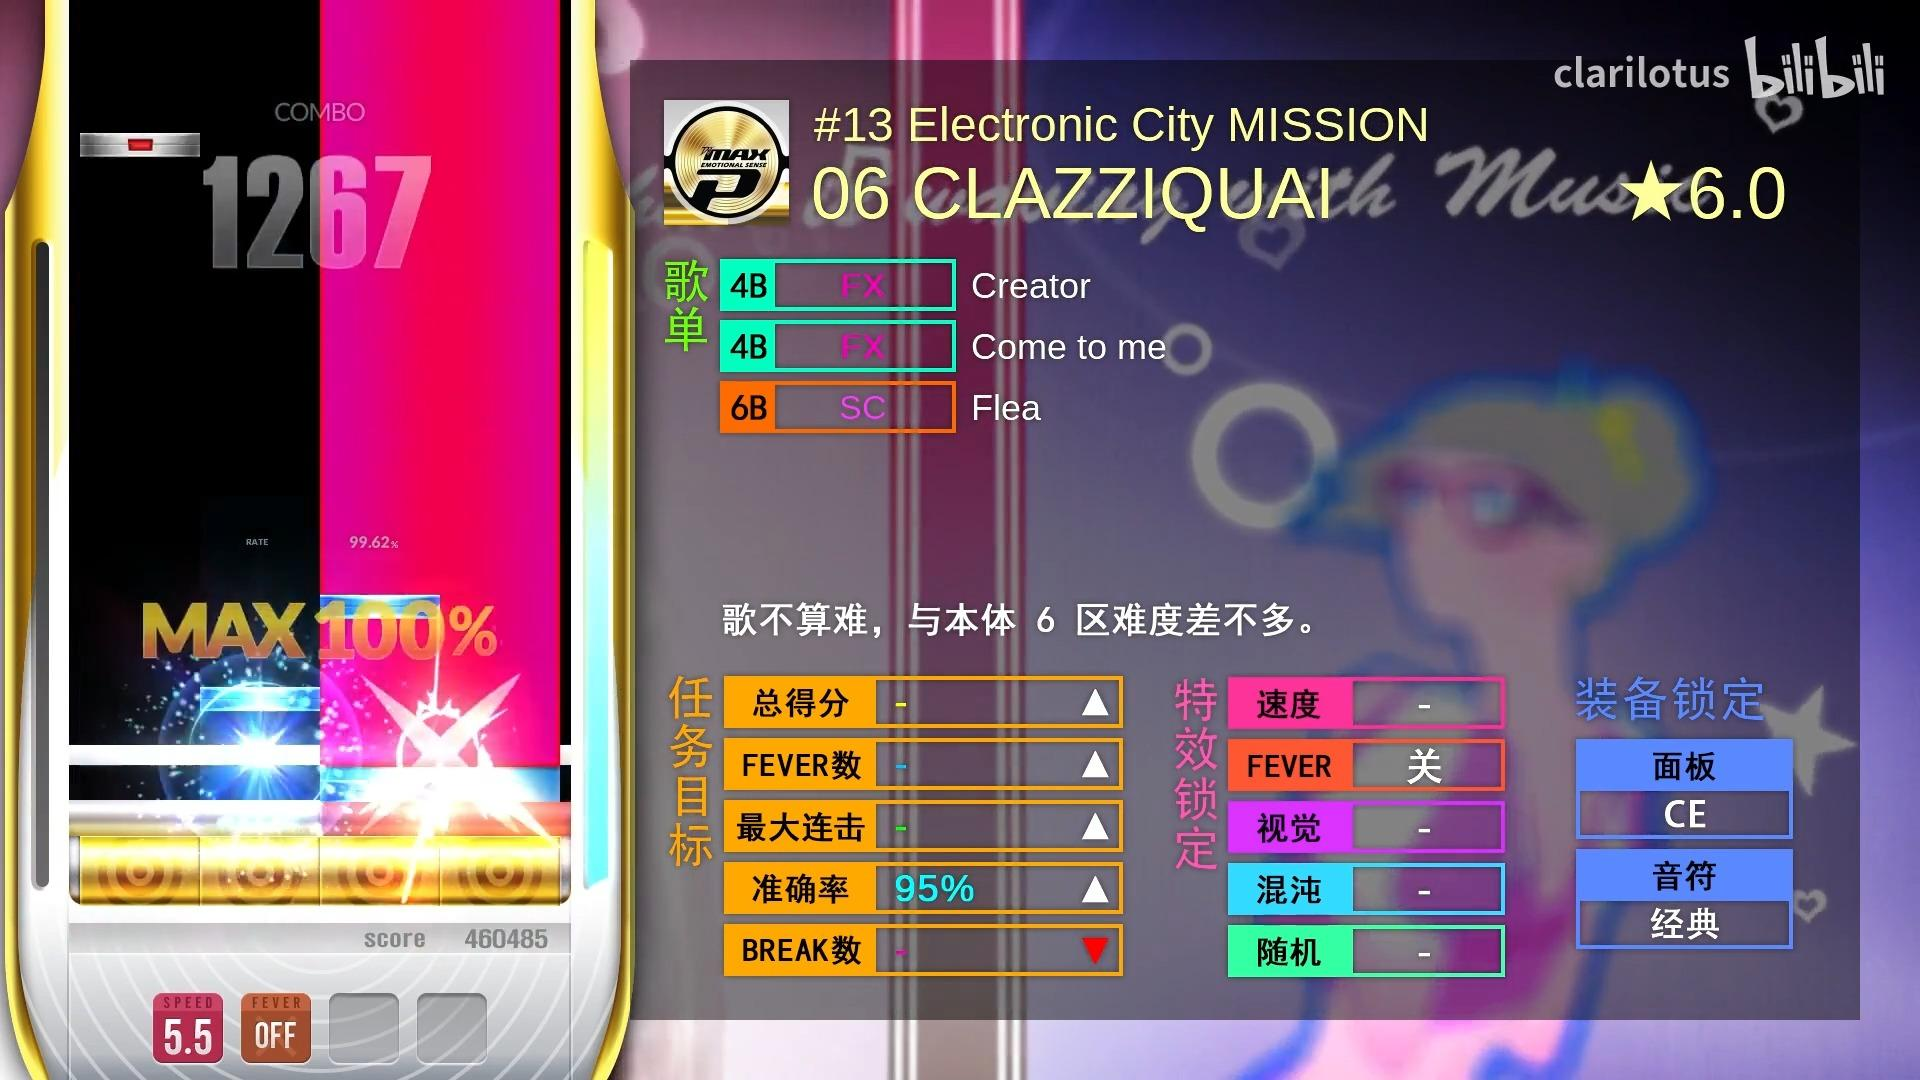note: (199, 686, 319, 712), (319, 595, 440, 620), (80, 132, 200, 157)
